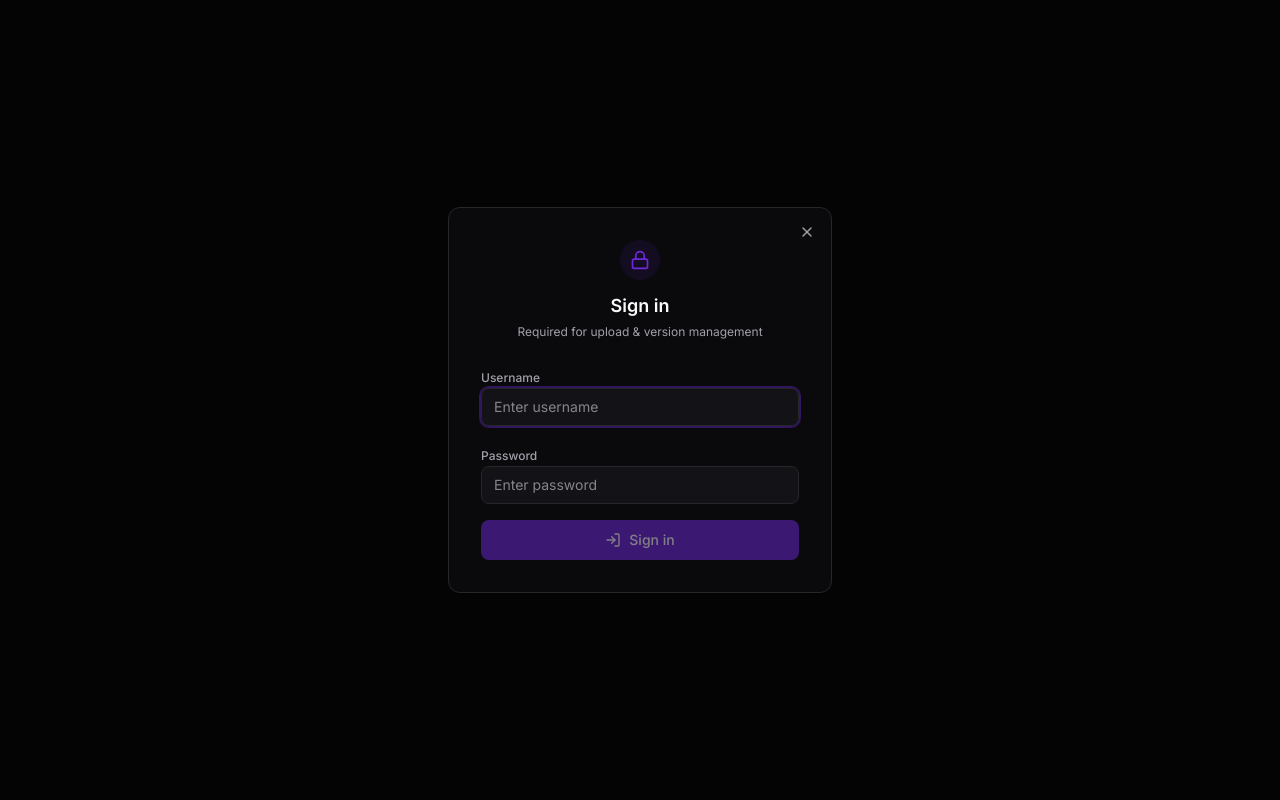
Test: LoginModal › shows fallback error for non-Error rejections
The width and height of the screenshot is (1280, 800).
Type "alice" into the field with placeholder "Enter username" at (640, 407), box [481, 388, 799, 426]
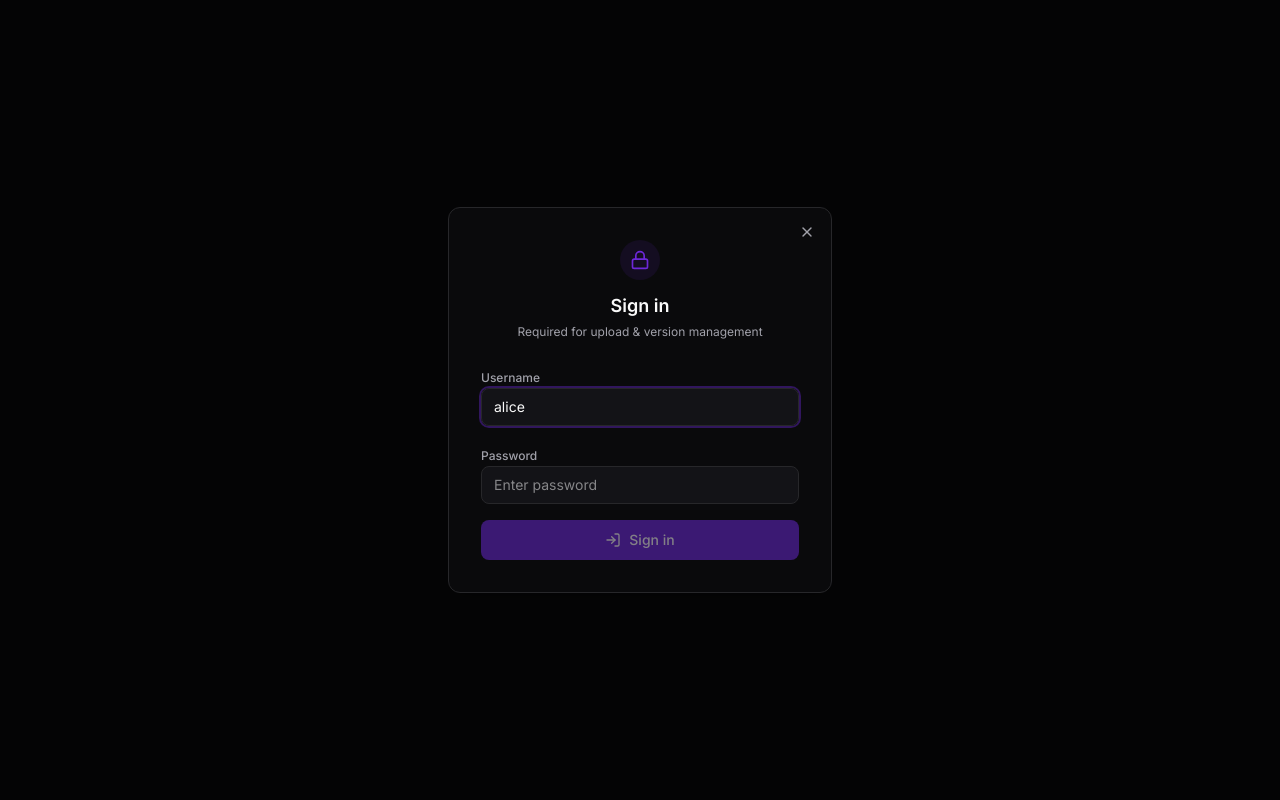
Type "pw" into the password field with placeholder "Enter password" at (640, 485), box [481, 466, 799, 504]
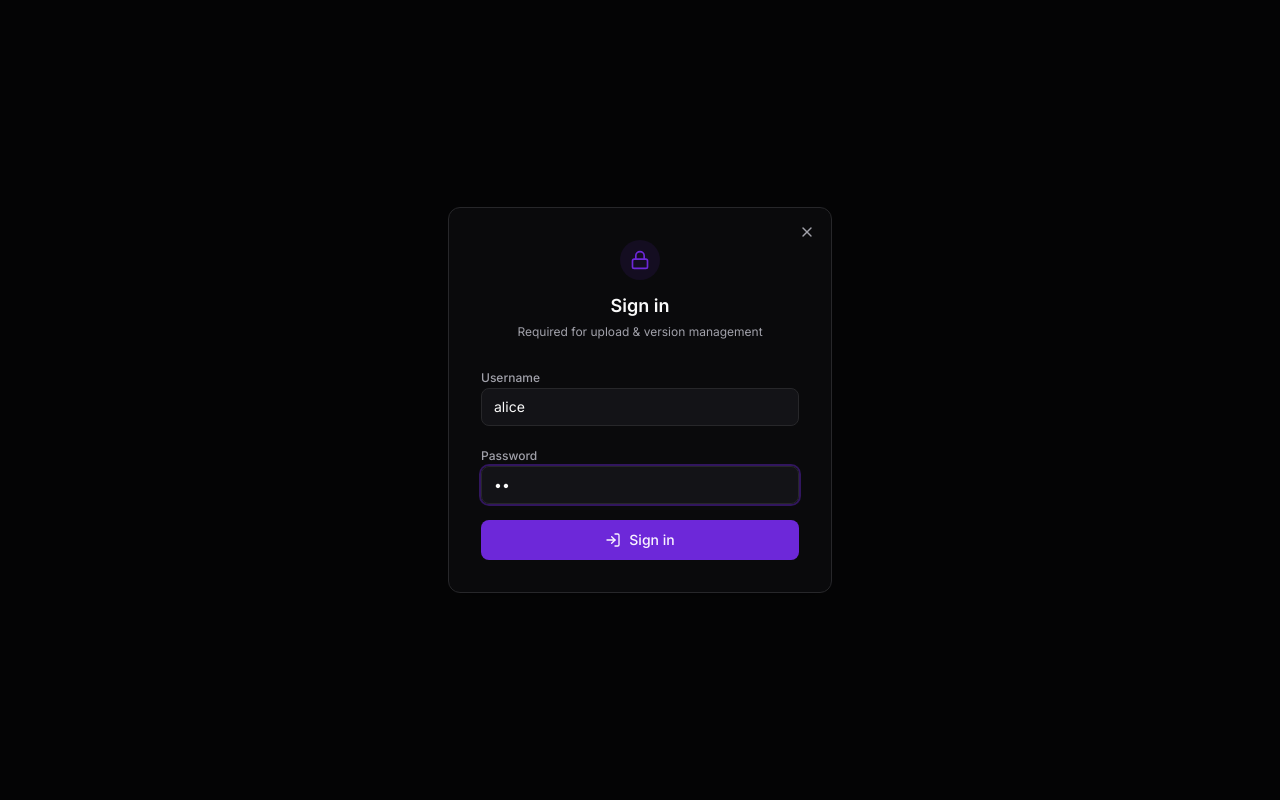
Click the button "Sign in" at (640, 540), box [481, 520, 799, 560]
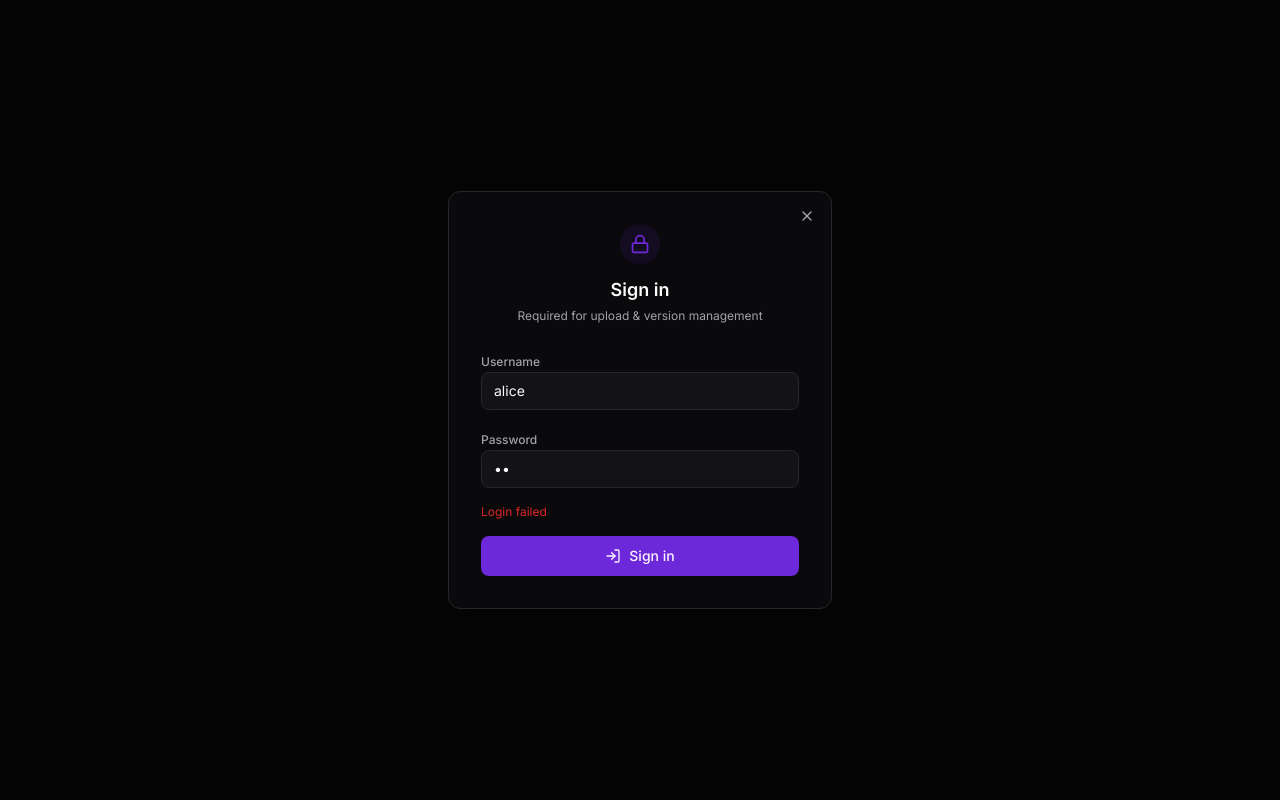
Check: the text "Login failed" is shown, box [481, 504, 547, 519]
